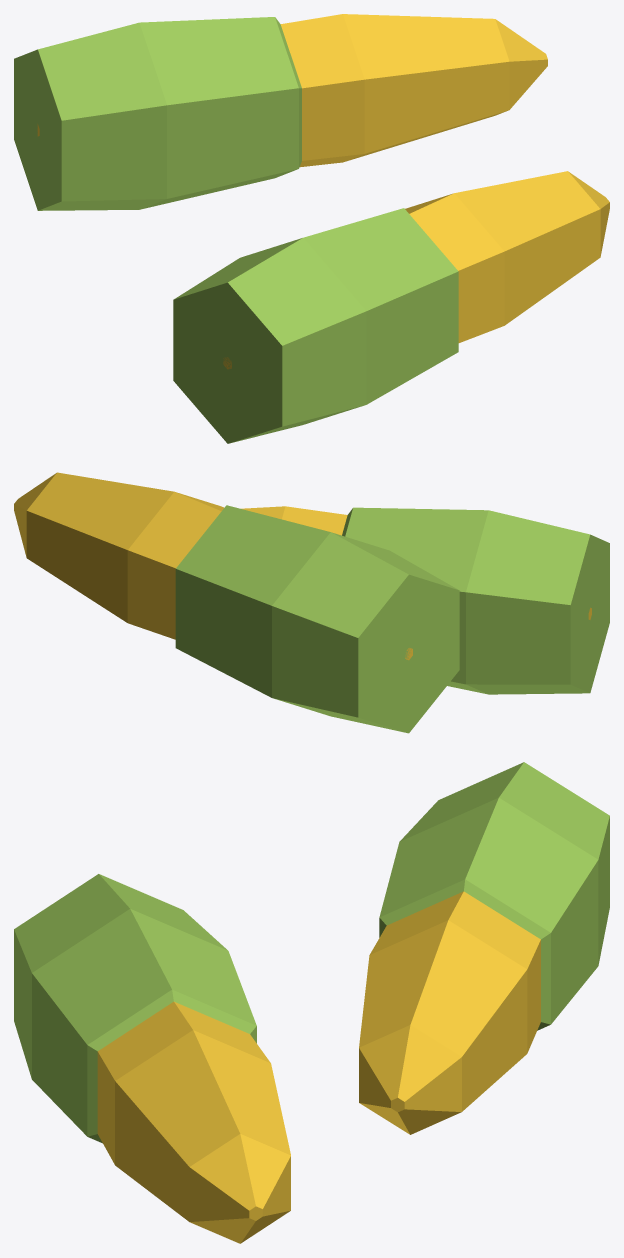
File: corn-crop.glb
The picture shows the model from 3 angles, top to bottom: view 1: azimuth 30°, elevation 25°; view 2: azimuth 150°, elevation 25°; view 3: azimuth 270°, elevation 25°; orthographic projection. The views are drawn at different scales.
Visible parts, largest first — view 1: corn-crop; view 2: corn-crop; view 3: corn-crop.
Part boxes in pixels (x1=…): corn-crop: x1=14, y1=14, x2=609, y2=443; corn-crop: x1=14, y1=472, x2=609, y2=733; corn-crop: x1=14, y1=762, x2=609, y2=1243.
Bounding box in the file's own units: 0.3035 × 0.176 × 0.2942.
Materials: 1 (1 with a texture image).
